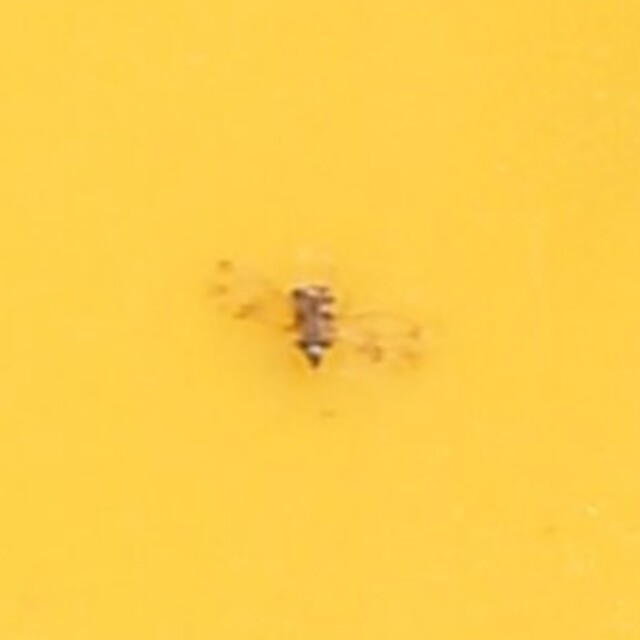Hemiptera: (210, 245, 430, 395)
